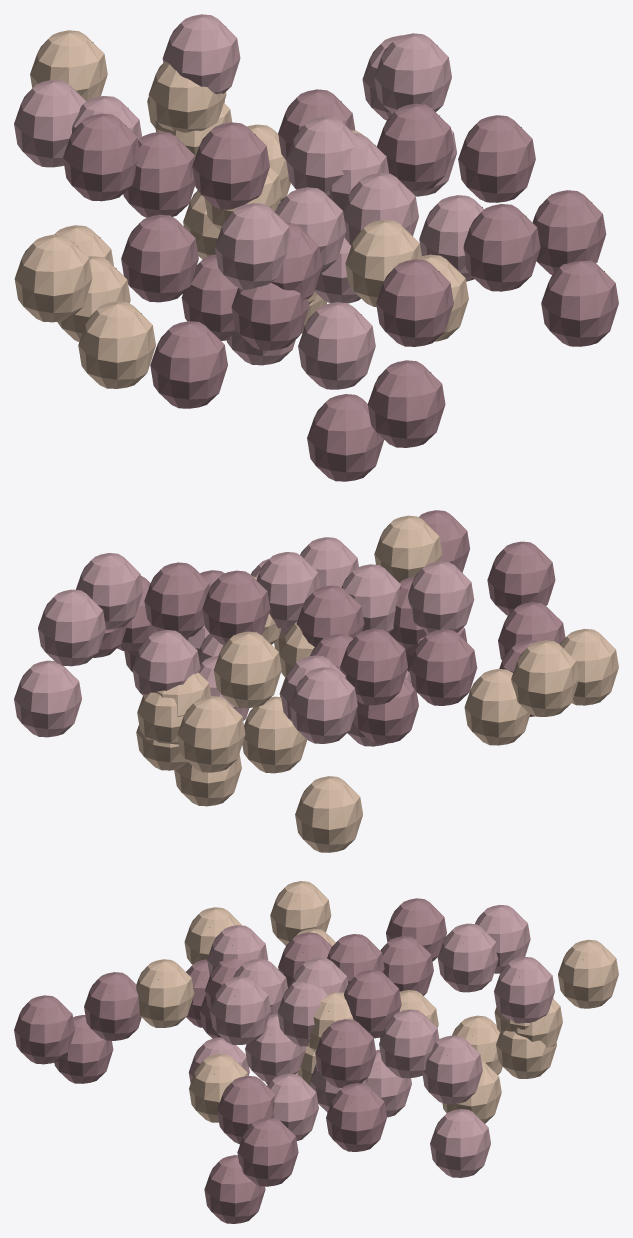
File: raisins.glb
The picture shows the model from 3 angles, top to bottom: view 1: azimuth 30°, elevation 25°; view 2: azimuth 150°, elevation 25°; view 3: azimuth 270°, elevation 25°; orthographic projection. The views are drawn at different scales.
Parts seen in each view (by area): view 1: raisins; view 2: raisins; view 3: raisins.
Boxes of the visible parts, x1,y1,x2,y2 form: raisins: (14, 14, 618, 481); raisins: (14, 510, 618, 852); raisins: (14, 881, 618, 1223).
Size of the model in its own units: 0.9977 by 0.409 by 1.19.
